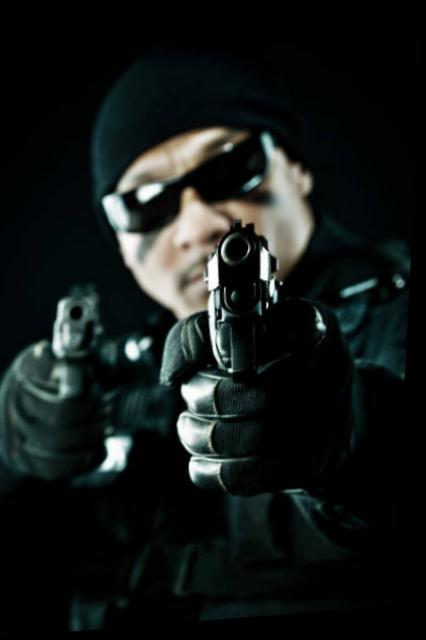other: (0, 47, 421, 622)
